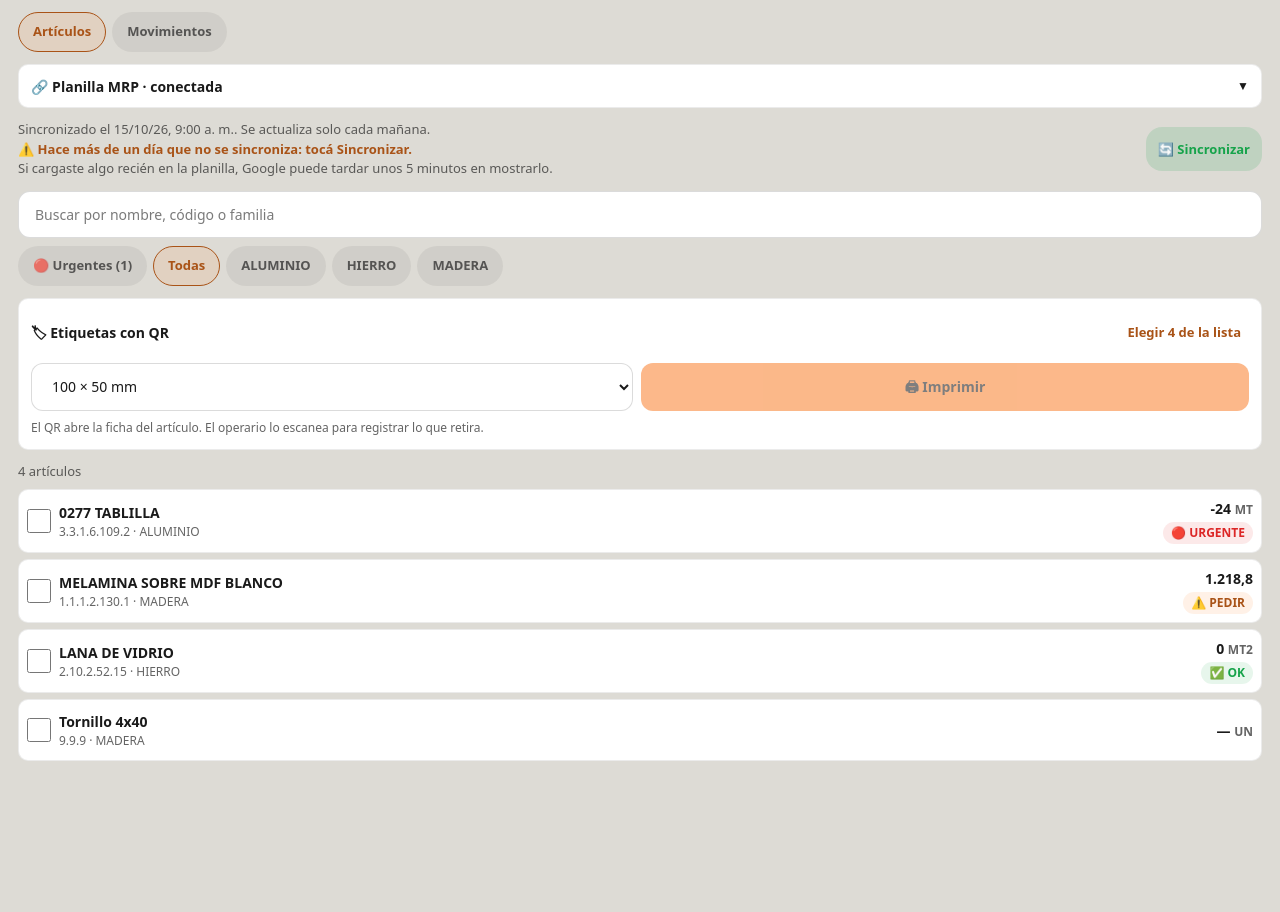
Test: pantalla Stock — sincronizar y elegir etiquetas de lo filtrado
This screenshot has width=1280, height=912.
Expected: the text "4 artículos" is shown, [18, 462, 81, 480]
Click the button "🔄 Sincronizar".
click(1204, 149)  # box [1146, 127, 1262, 171]
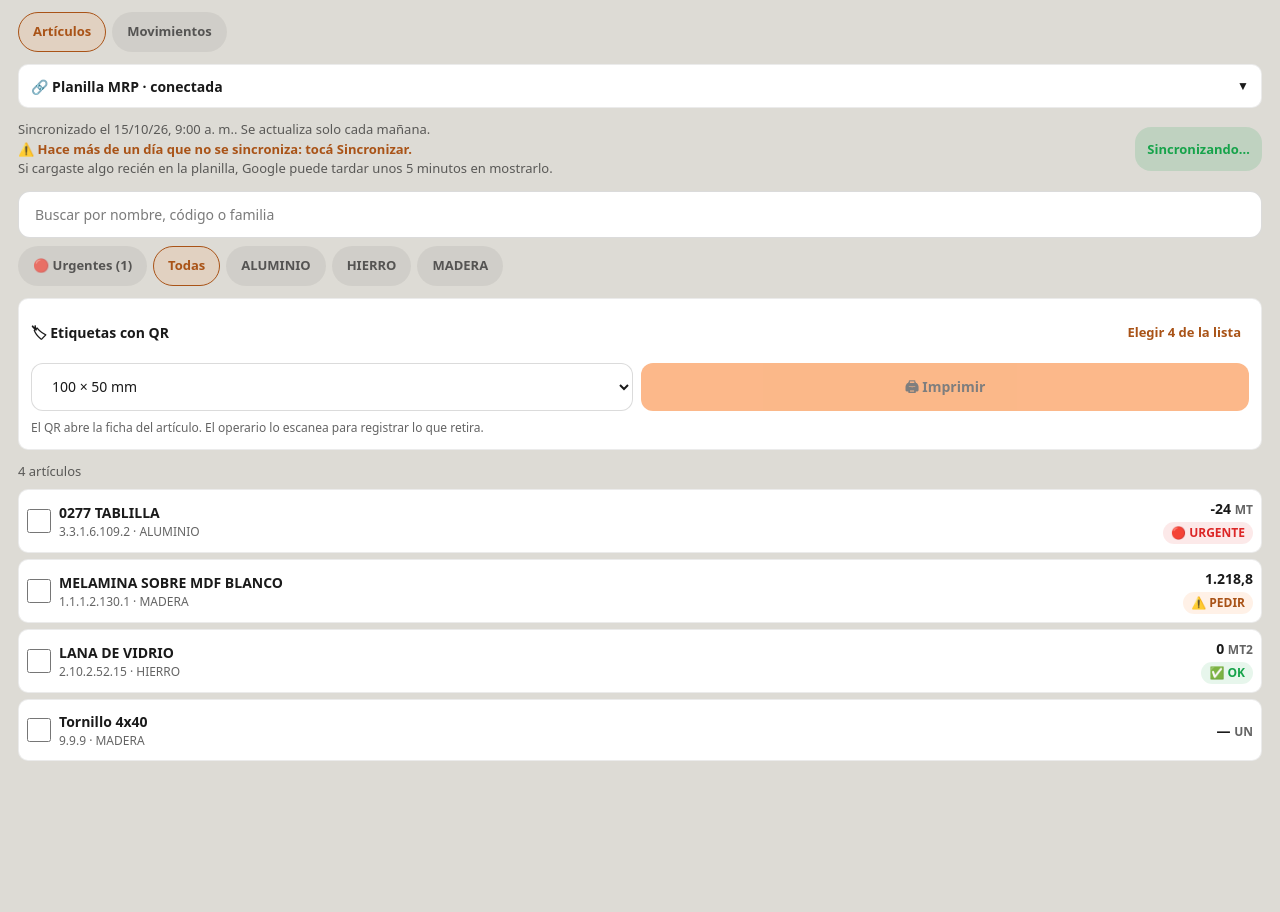
Click the button "ALUMINIO".
click(276, 266)  # box [226, 246, 326, 286]
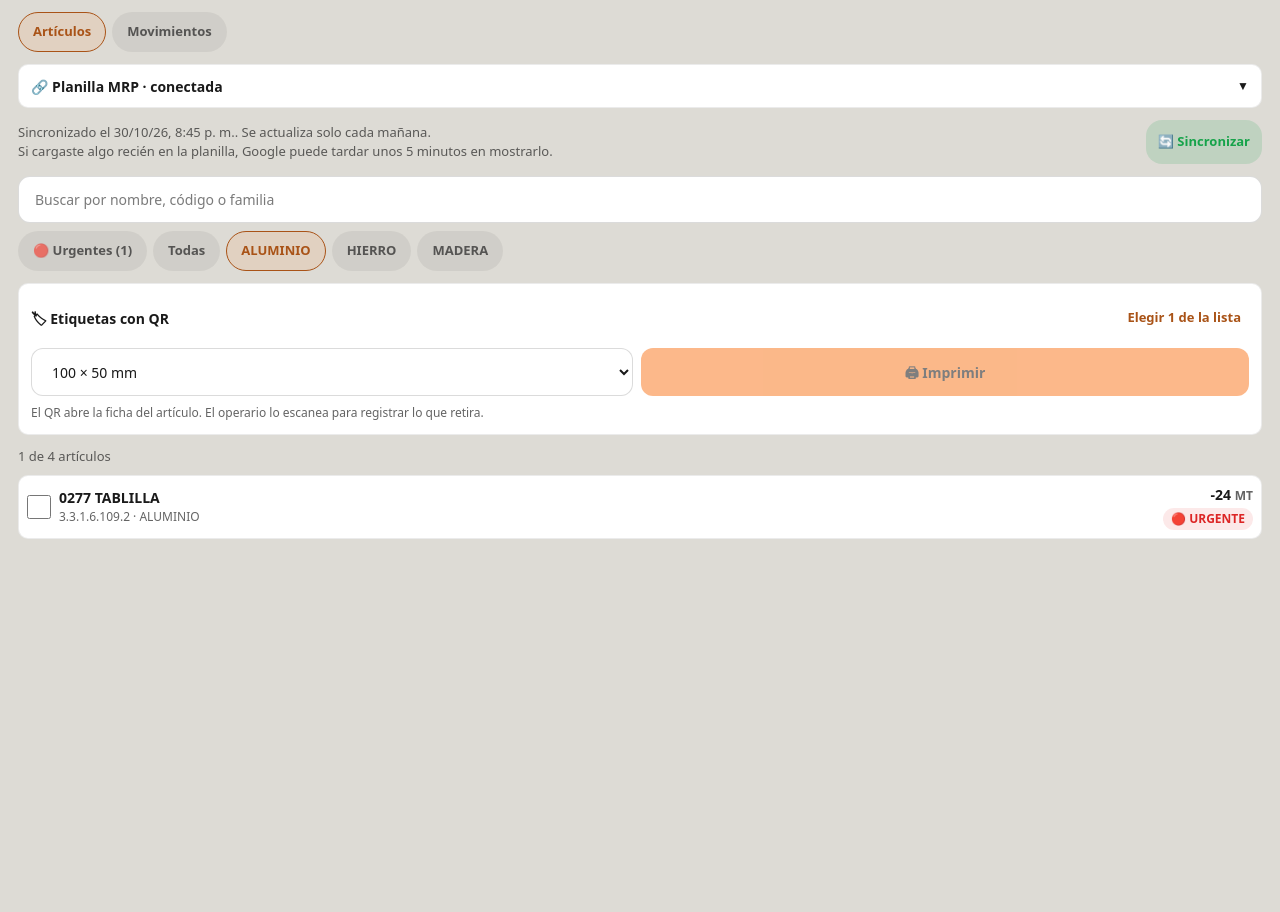
Click the button "Elegir 1 de la lista".
click(1184, 318)  # box [1119, 296, 1249, 340]
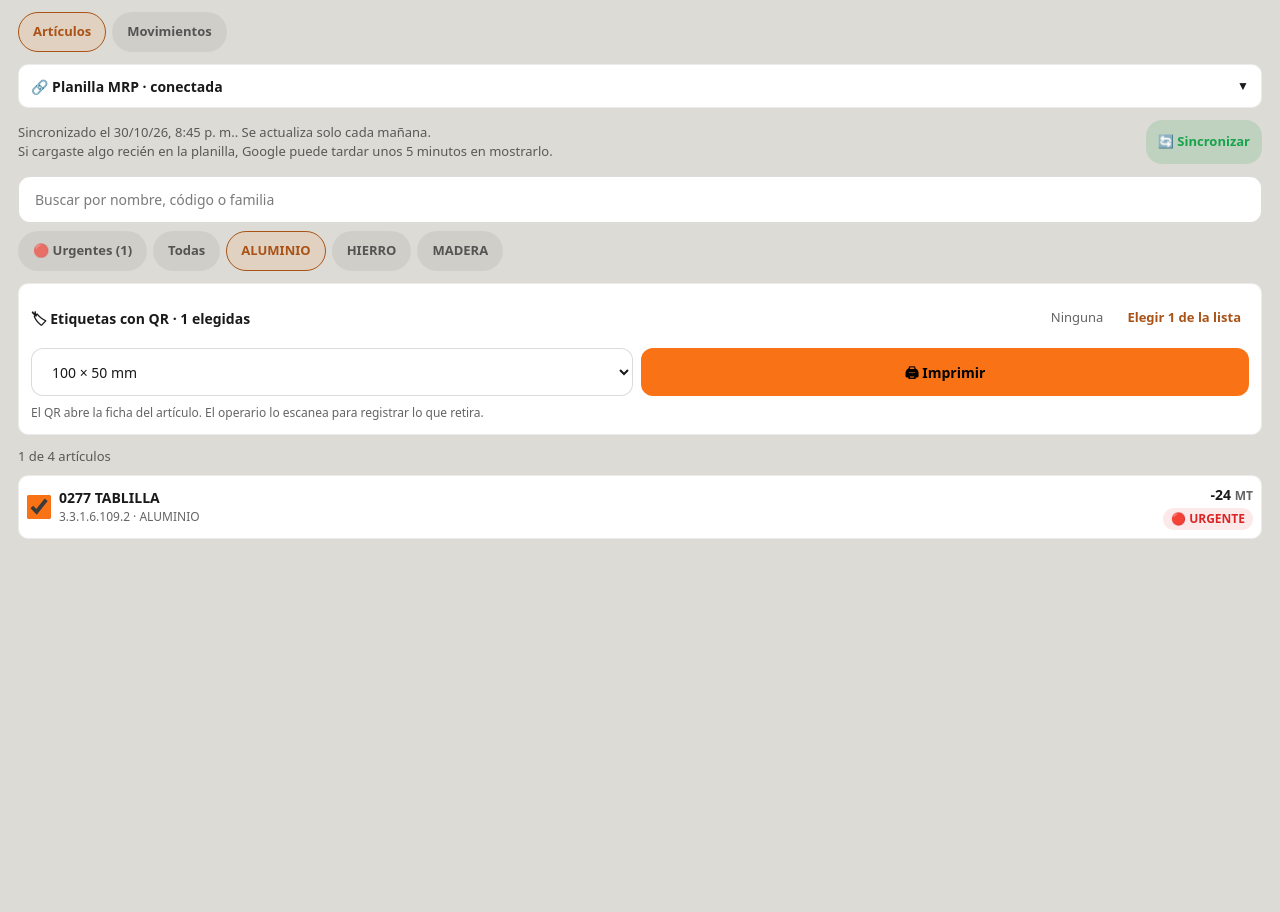
Expected: the text "🏷 Etiquetas con QR · 1 elegidas" is shown, [31, 308, 250, 328]
